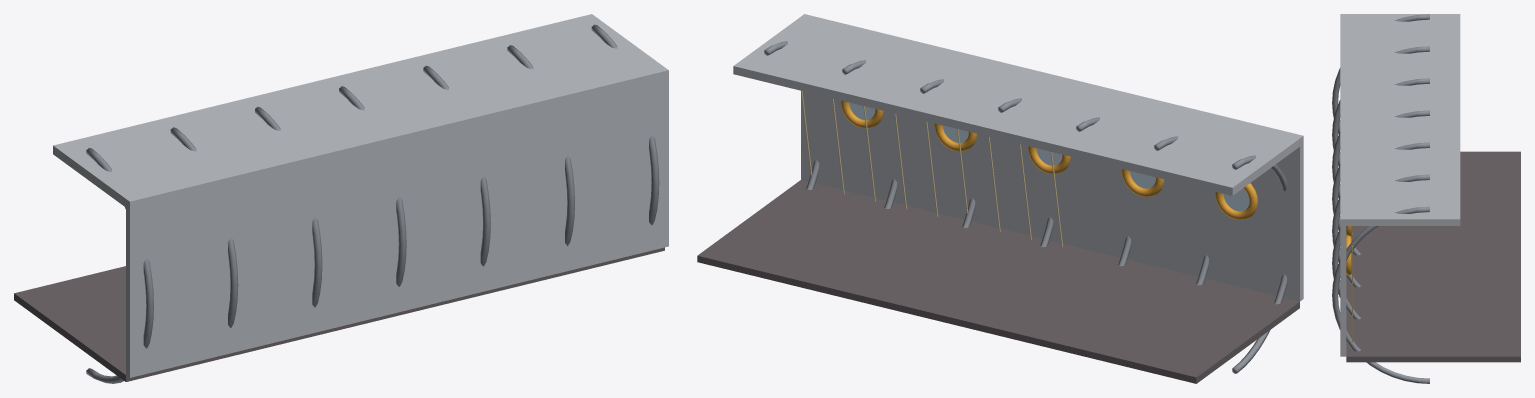
File: plane_hold.fbx
3 renders of one model, left to right at view 1: azimuth 30°, elevation 25°; view 2: azimuth 150°, elevation 25°; view 3: azimuth 270°, elevation 25°, orthographic. The views are drawn at different scales.
Parts seen in each view (by area): view 1: plane_hold; view 2: plane_hold; view 3: plane_hold.
Part boxes in pixels (left/top/right/bottom): plane_hold: left=14, top=14, right=668, bottom=383; plane_hold: left=697, top=14, right=1303, bottom=383; plane_hold: left=1332, top=14, right=1520, bottom=383.
Bounding box in the file's own units: 6.41 × 2.58 × 2.49.
